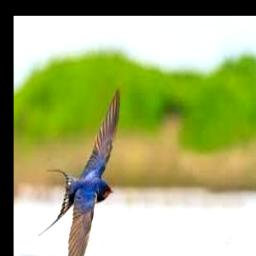Swallow: (38, 85, 119, 256)
